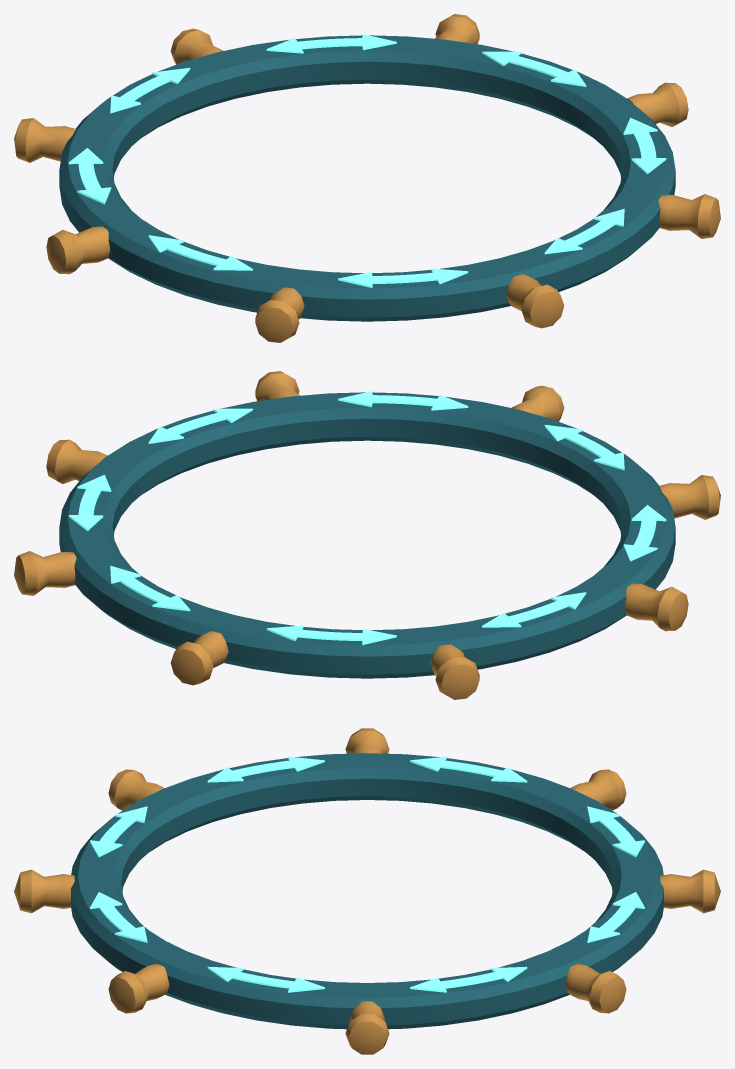
The model's file is Handwheel.fbx.
The picture shows the model from 3 angles, top to bottom: view 1: azimuth 30°, elevation 25°; view 2: azimuth 150°, elevation 25°; view 3: azimuth 270°, elevation 25°; orthographic projection. The views are drawn at different scales.
Parts seen in each view (by area): view 1: Handwheel_LOD0; view 2: Handwheel_LOD0; view 3: Handwheel_LOD0.
Boxes of the visible parts, x1,y1,x2,y2 form: Handwheel_LOD0: (14, 14, 720, 342); Handwheel_LOD0: (14, 371, 720, 699); Handwheel_LOD0: (14, 728, 720, 1054).
Size of what is drawn, in the model's own units: 0.442 by 0.0262 by 0.442.
